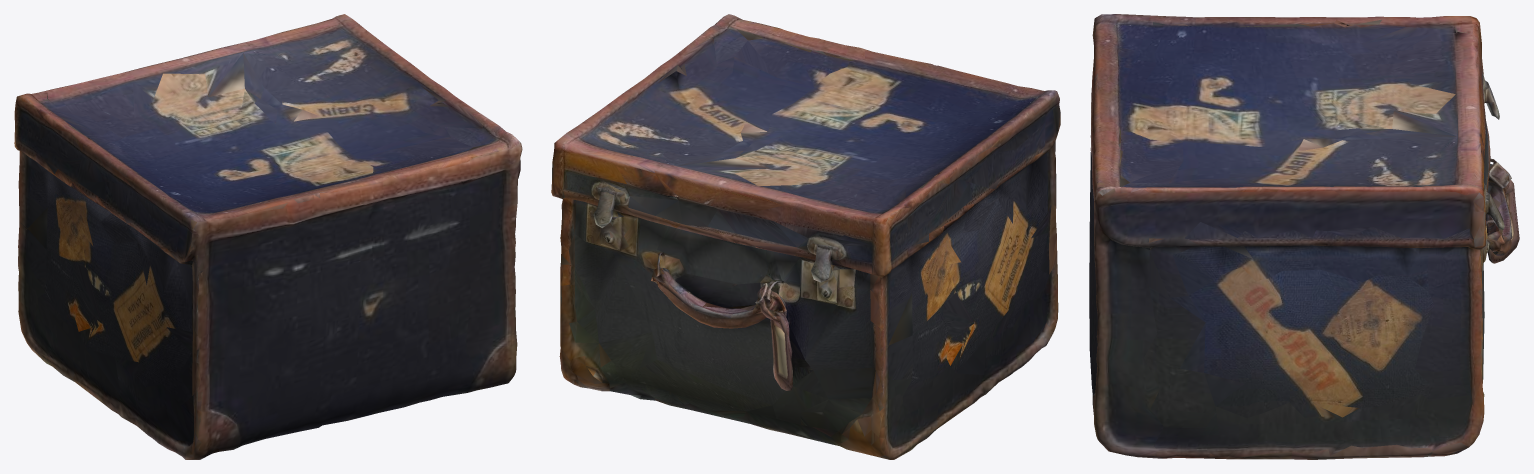
File: old_travel_case.gltf
The picture shows the model from 3 angles, left to right: view 1: azimuth 30°, elevation 25°; view 2: azimuth 150°, elevation 25°; view 3: azimuth 270°, elevation 25°; orthographic projection. The views are drawn at different scales.
Parts seen in each view (by area): view 1: Stereo textured mesh_Material0_0.001; view 2: Stereo textured mesh_Material0_0.001; view 3: Stereo textured mesh_Material0_0.001.
Boxes of the visible parts, left/top/right/bottom form: Stereo textured mesh_Material0_0.001: left=14, top=14, right=522, bottom=459; Stereo textured mesh_Material0_0.001: left=551, top=14, right=1060, bottom=459; Stereo textured mesh_Material0_0.001: left=1089, top=14, right=1519, bottom=459.
Size of the model in its own units: 9.79 by 7.08 by 10.
Materials: 1 (1 with a texture image).
